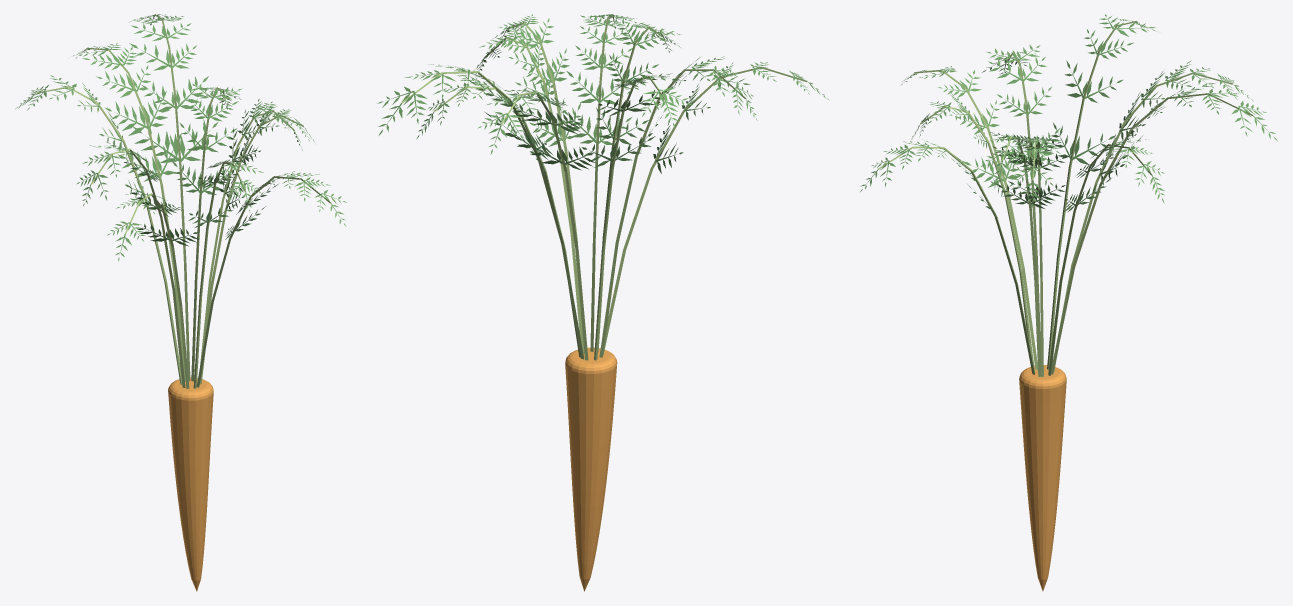
Rendered from carrot_harvest_v23.glb.
3 renders of one model, left to right at view 1: azimuth 30°, elevation 25°; view 2: azimuth 150°, elevation 25°; view 3: azimuth 270°, elevation 25°, orthographic. The views are drawn at different scales.
Parts seen in each view (by area): view 1: leaves, petioles, root; view 2: leaves, petioles, root; view 3: leaves, petioles, root.
Boxes of the visible parts, bbox=[...] form: leaves: bbox=[15, 14, 346, 261]; petioles: bbox=[35, 14, 330, 388]; root: bbox=[168, 377, 213, 591]; leaves: bbox=[377, 14, 829, 173]; petioles: bbox=[401, 15, 807, 360]; root: bbox=[565, 347, 617, 591]; leaves: bbox=[860, 14, 1277, 217]; petioles: bbox=[878, 21, 1252, 377]; root: bbox=[1019, 365, 1066, 591].
Size of the model in its own units: 0.2448 by 0.4735 by 0.3451.
